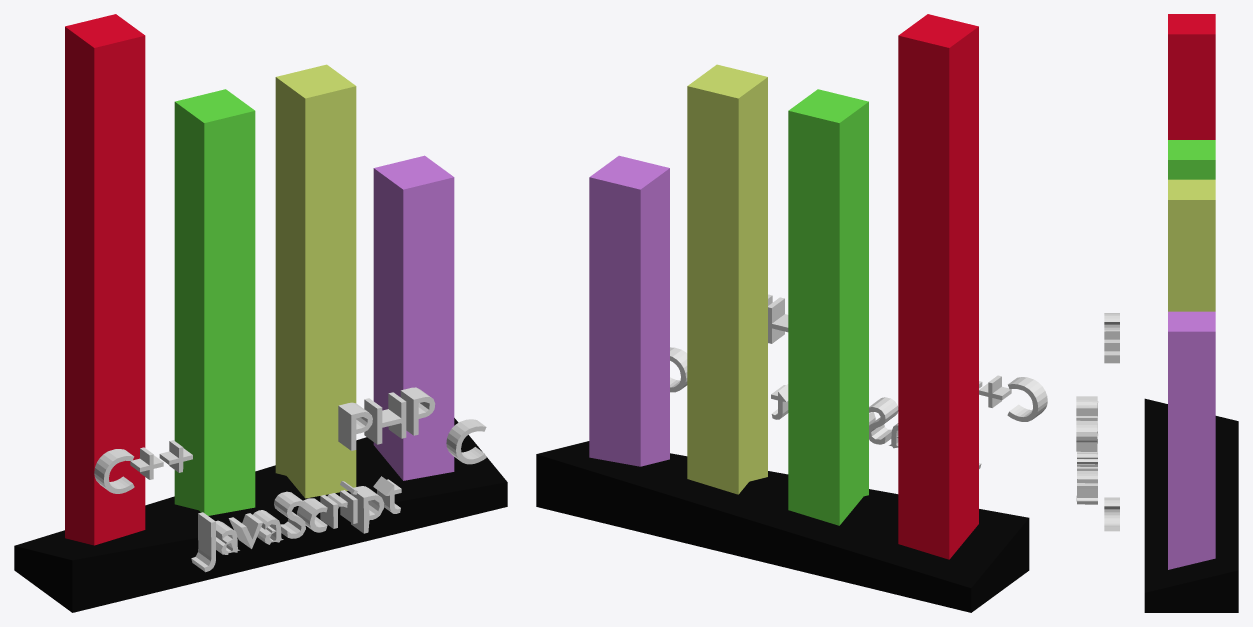
Rendered from CarLen.glb.
The picture shows the model from 3 angles, left to right: view 1: azimuth 30°, elevation 25°; view 2: azimuth 150°, elevation 25°; view 3: azimuth 270°, elevation 25°; orthographic projection. The views are drawn at different scales.
Parts seen in each view (by area): view 1: Cube.004; view 2: Cube.004; view 3: Cube.004.
Boxes of the visible parts, <box> form: Cube.004: <box>14,14,507,612</box>; Cube.004: <box>536,14,1047,612</box>; Cube.004: <box>1076,14,1238,612</box>.
Bounding box in the file's own units: 8.65 × 10.36 × 3.46.
